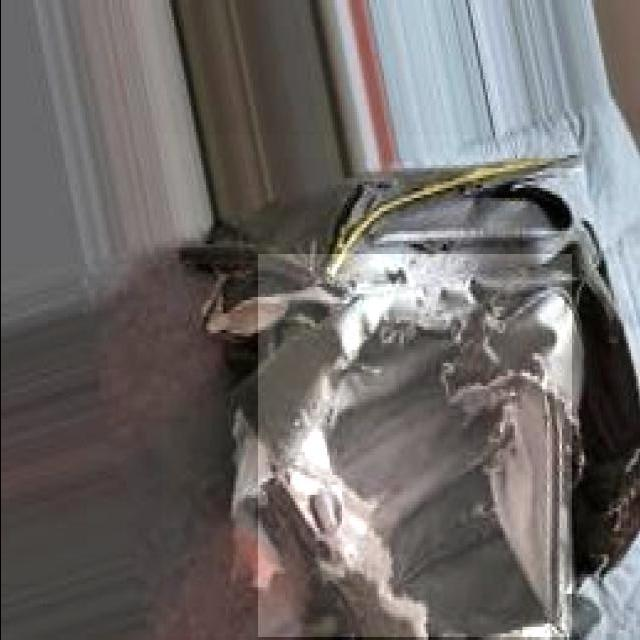Damage-bag: (183, 159, 640, 640)
